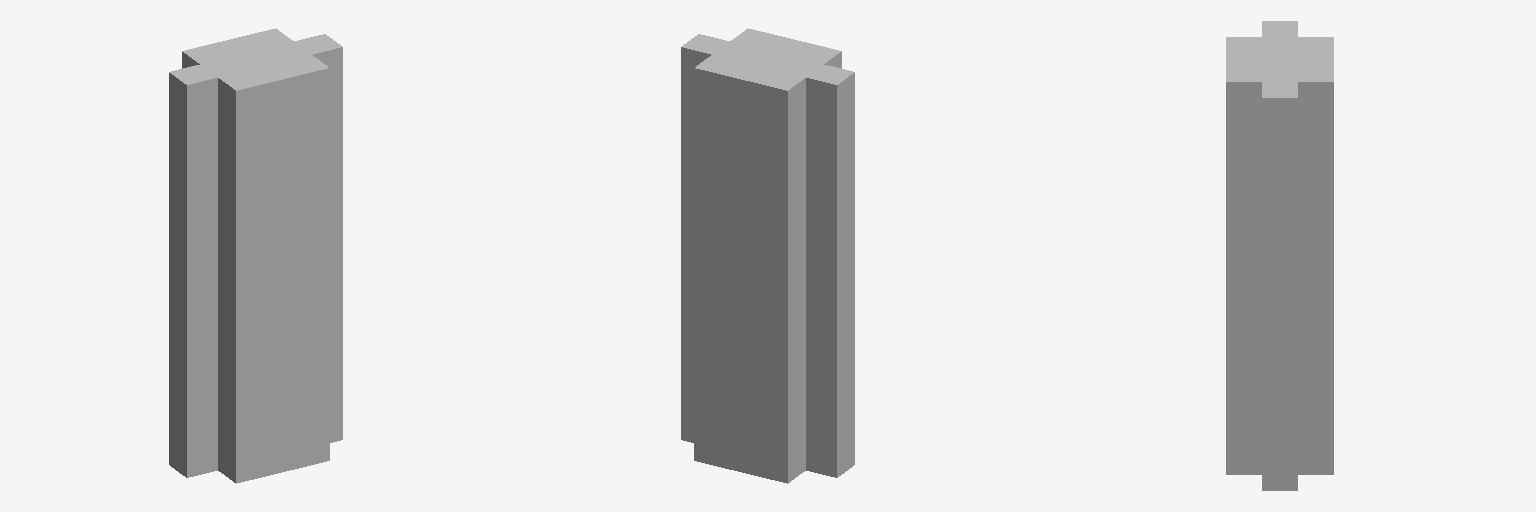
The model's file is Mdl_HumanKeeper_2.obj.
The picture shows the model from 3 angles: view 1: azimuth 30°, elevation 25°; view 2: azimuth 150°, elevation 25°; view 3: azimuth 270°, elevation 25°; orthographic projection.
Visible parts, largest first — view 1: Mdl_HumanKeeper_2; view 2: Mdl_HumanKeeper_2; view 3: Mdl_HumanKeeper_2.
Part boxes in pixels (left/top/right/bottom): Mdl_HumanKeeper_2: left=169, top=28, right=342, bottom=483; Mdl_HumanKeeper_2: left=681, top=28, right=854, bottom=483; Mdl_HumanKeeper_2: left=1226, top=21, right=1333, bottom=490.
Bounding box in the file's own units: 5 × 12 × 3.